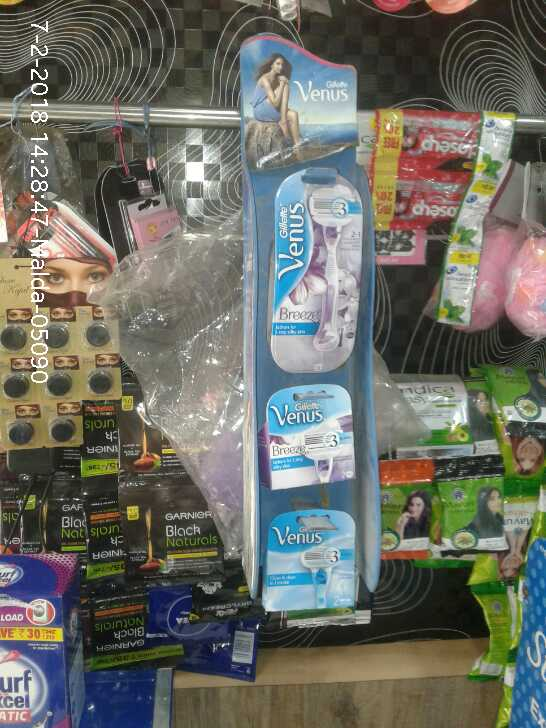venus: (266, 159, 364, 378), (255, 496, 360, 599), (265, 380, 356, 489)
